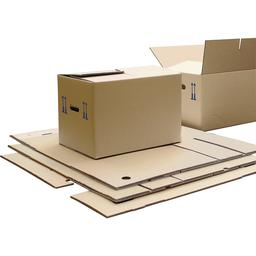cardboard: (50, 61, 194, 164), (153, 31, 256, 141)
